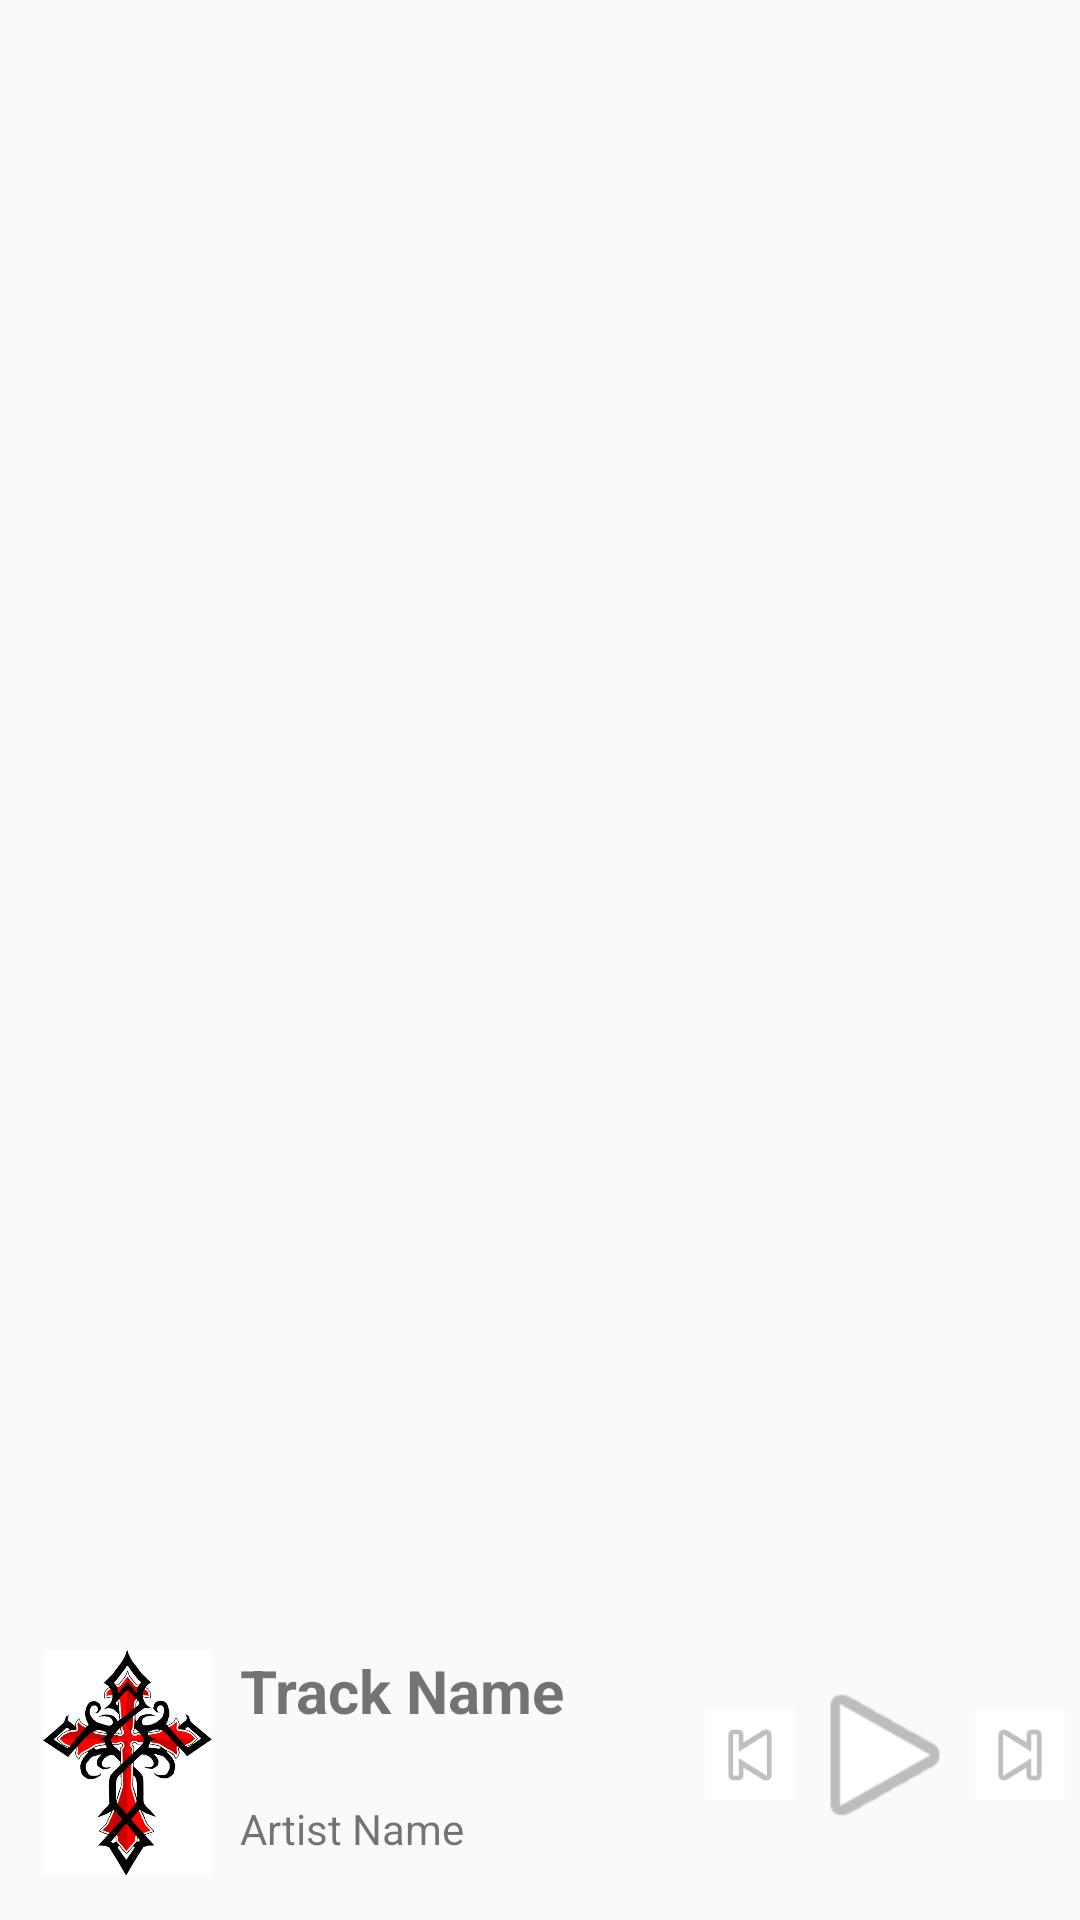

Named icons in this screenshot (1080w x 1920h) and their centers, (x,y):
cross: (127,1762)
next: (1020,1755)
play pause: (885,1755)
previous: (750,1755)
